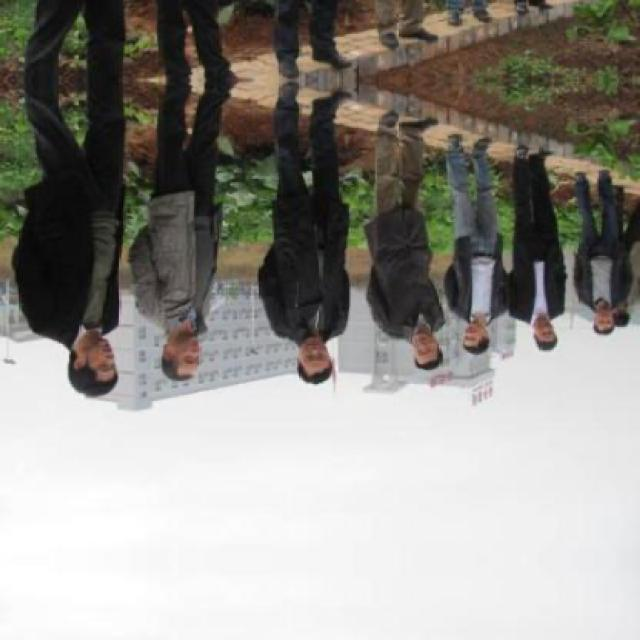sin casco: (53, 331, 122, 406), (157, 323, 216, 392), (393, 326, 464, 383), (284, 329, 341, 398), (516, 314, 578, 364), (456, 321, 508, 364), (631, 338, 636, 340)
